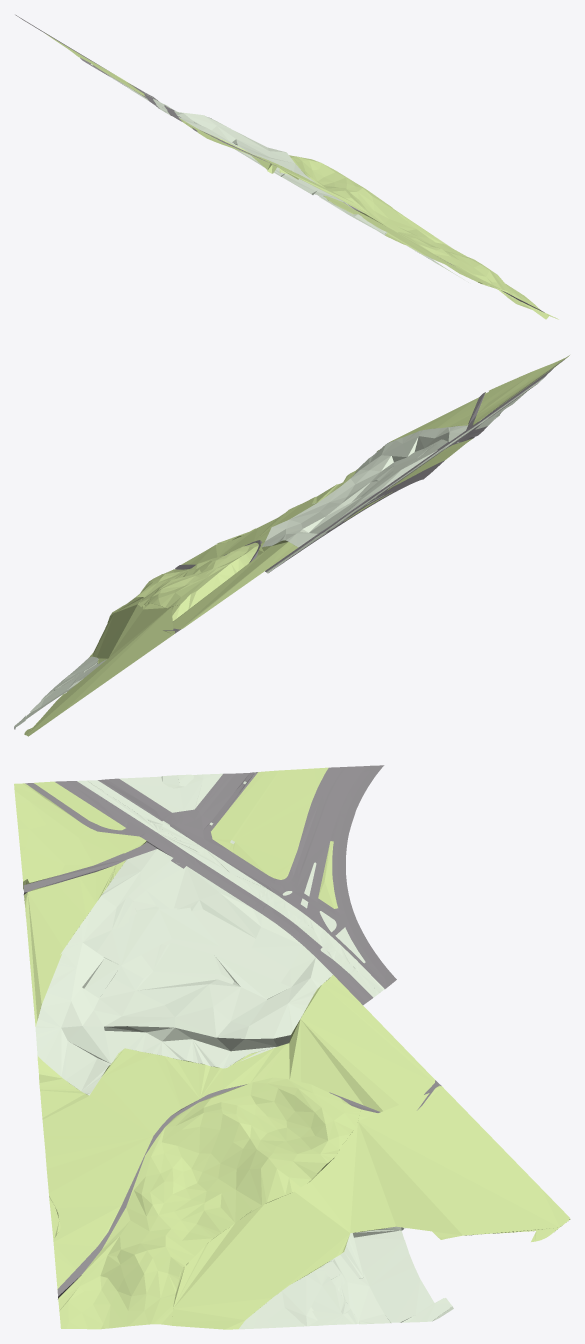
3 views of the same model, one above another, from view 1: azimuth 30°, elevation 25°; view 2: azimuth 150°, elevation 25°; view 3: azimuth 270°, elevation 25° (orthographic). The views are drawn at different scales.
Size of the model in its own units: 212 by 156 by 224.
